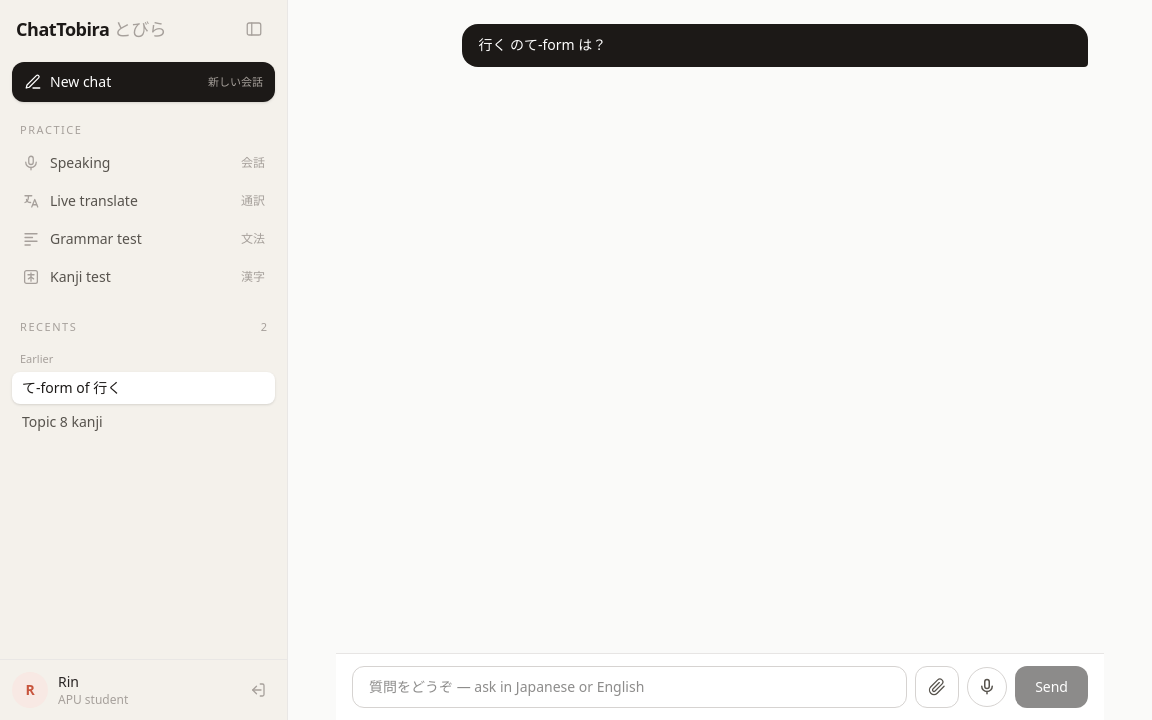
chat sidebar › goes back to a chat it has left without asking the server again
Click the button "Topic 8 kanji": [116, 422] box x1=12 y1=406 x2=221 y2=438
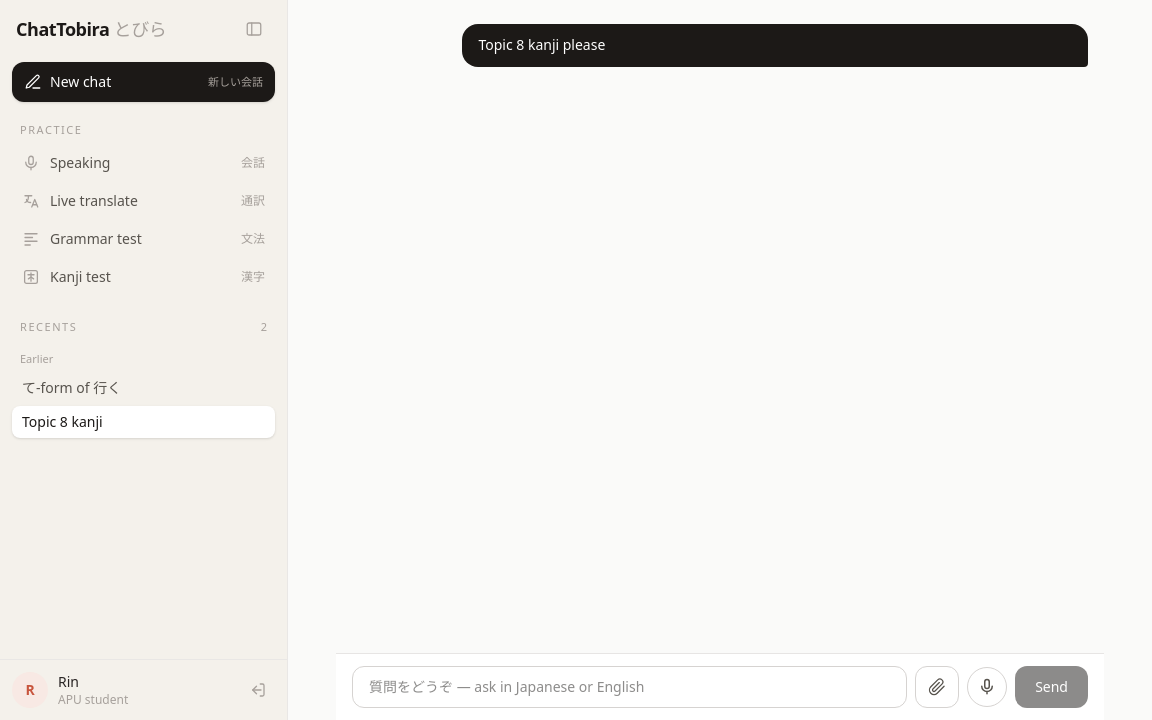
Expected: the text "Topic 8 kanji please" is shown, x1=478 y1=35 x2=605 y2=54
Click the button "て-form of 行く": [116, 388] box x1=12 y1=372 x2=221 y2=404
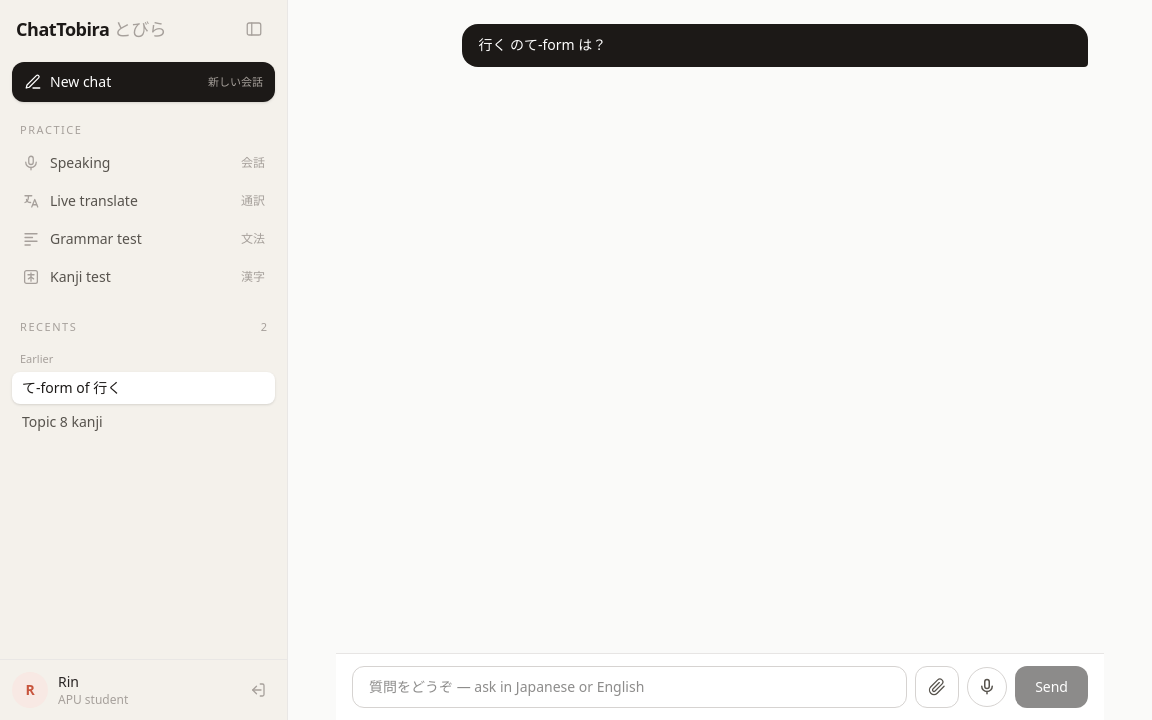
Expected: the text "行く のて-form は？" is shown, x1=478 y1=35 x2=606 y2=54
